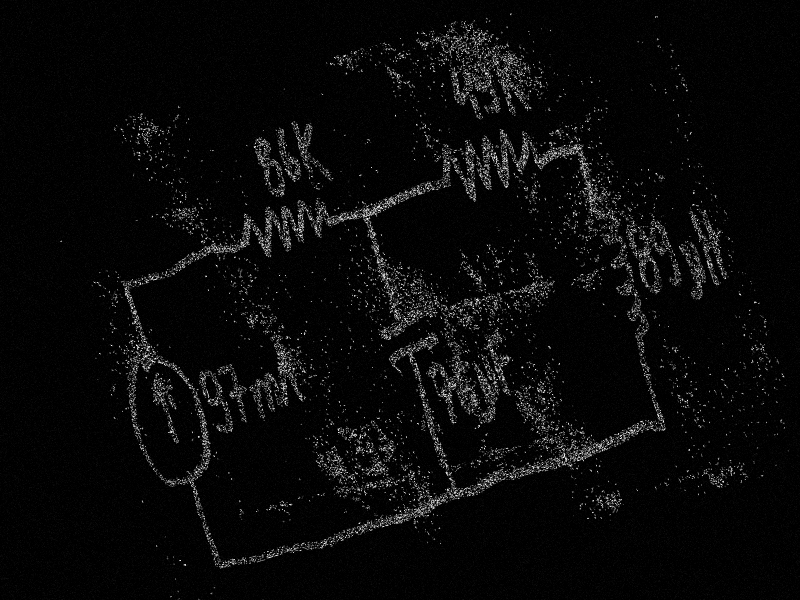4: (444, 62, 486, 126)
6: (442, 345, 484, 418), (270, 123, 306, 185)
7: (421, 355, 467, 429), (213, 357, 259, 429)
8: (621, 218, 669, 301), (249, 133, 293, 203)
9: (192, 362, 239, 440), (643, 216, 688, 293), (466, 55, 506, 123)
A: (262, 333, 307, 409)
F: (480, 326, 521, 396)
H: (686, 204, 732, 289)
k: (288, 114, 338, 195), (489, 51, 535, 120)
m: (245, 370, 287, 420)
u: (466, 352, 510, 425), (673, 238, 714, 303)
